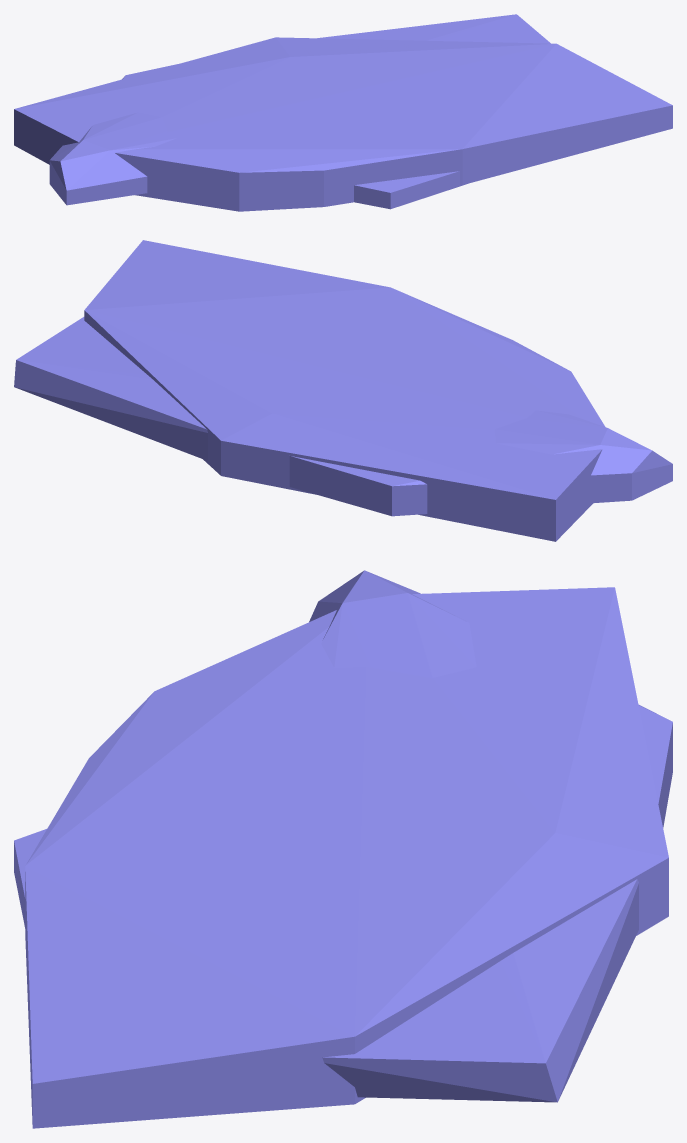
Rendered from Plate_15_Collider_01.FBX.
3 renders of one model, top to bottom at view 1: azimuth 30°, elevation 25°; view 2: azimuth 150°, elevation 25°; view 3: azimuth 270°, elevation 25°, orthographic. The views are drawn at different scales.
Parts seen in each view (by area): view 1: COLLIDER1, COLLIDER2, COLLIDER3; view 2: COLLIDER1, COLLIDER2; view 3: COLLIDER1, COLLIDER2, COLLIDER3.
Part boxes in pixels (bbox=[...]): COLLIDER1: bbox=[14, 37, 672, 211]; COLLIDER2: bbox=[49, 14, 550, 205]; COLLIDER3: bbox=[354, 171, 466, 209]; COLLIDER1: bbox=[84, 240, 605, 541]; COLLIDER2: bbox=[14, 317, 672, 516]; COLLIDER1: bbox=[25, 587, 668, 1128]; COLLIDER2: bbox=[309, 570, 672, 1102]; COLLIDER3: bbox=[14, 829, 46, 928].
Size of the model in its own units: 420 by 35.23 by 233.
